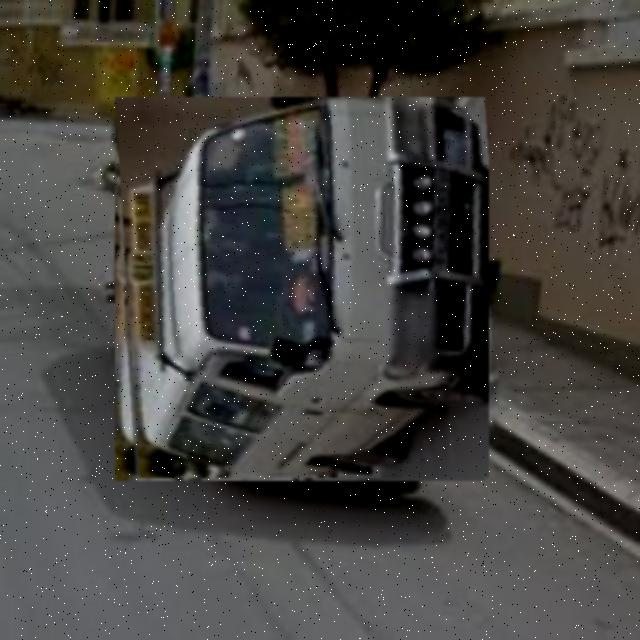car: (112, 102, 490, 479)
